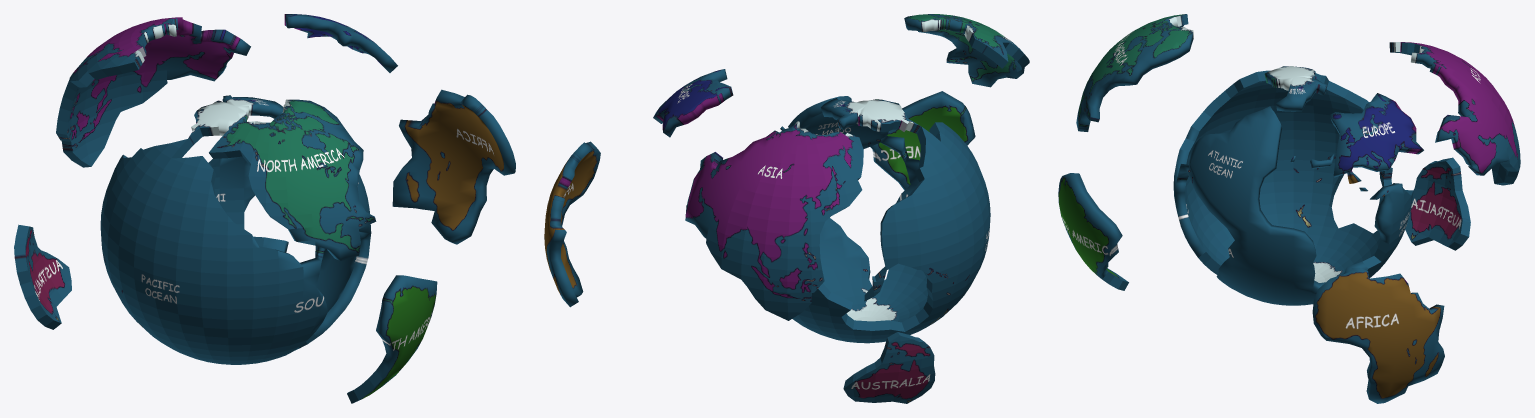
Rendered from earth_cutkjshdafkugasdklu (2).fbx.
3 views of the same model, side by side, from view 1: azimuth 30°, elevation 25°; view 2: azimuth 150°, elevation 25°; view 3: azimuth 270°, elevation 25° (orthographic). The views are drawn at different scales.
Visible parts, largest first — view 1: Sphere.007, Sphere.002, Sphere.005, Sphere.001, Sphere.003, Sphere.006, Sphere.004, Sphere; view 2: Sphere.007, Sphere.005, Sphere.002, Sphere.006, Sphere.001, Sphere.003, Sphere.004, Sphere; view 3: Sphere.007, Sphere.001, Sphere.005, Sphere.002, Sphere.004, Sphere.006, Sphere.003.
Boxes of the visible parts, x1=… form: Sphere.007: x1=100, y1=95, x2=371, y2=364; Sphere.002: x1=209, y1=99, x2=376, y2=260; Sphere.005: x1=61, y1=17, x2=250, y2=167; Sphere.001: x1=392, y1=89, x2=515, y2=244; Sphere.003: x1=347, y1=275, x2=437, y2=403; Sphere.006: x1=14, y1=224, x2=71, y2=329; Sphere.004: x1=284, y1=14, x2=397, y2=72; Sphere: x1=56, y1=86, x2=79, y2=141; Sphere.007: x1=780, y1=96, x2=990, y2=343; Sphere.005: x1=685, y1=121, x2=863, y2=320; Sphere.002: x1=904, y1=14, x2=1029, y2=87; Sphere.006: x1=843, y1=332, x2=935, y2=403; Sphere.001: x1=544, y1=141, x2=600, y2=307; Sphere.003: x1=870, y1=91, x2=975, y2=190; Sphere.004: x1=653, y1=69, x2=733, y2=137; Sphere: x1=811, y1=234, x2=824, y2=292; Sphere.007: x1=1173, y1=66, x2=1413, y2=305; Sphere.001: x1=1312, y1=267, x2=1444, y2=403; Sphere.005: x1=1389, y1=42, x2=1520, y2=185; Sphere.002: x1=1076, y1=14, x2=1193, y2=131; Sphere.004: x1=1330, y1=93, x2=1423, y2=177; Sphere.006: x1=1405, y1=157, x2=1470, y2=250; Sphere.003: x1=1058, y1=173, x2=1128, y2=290.
Size of the model in its own units: 456 by 289 by 462.
